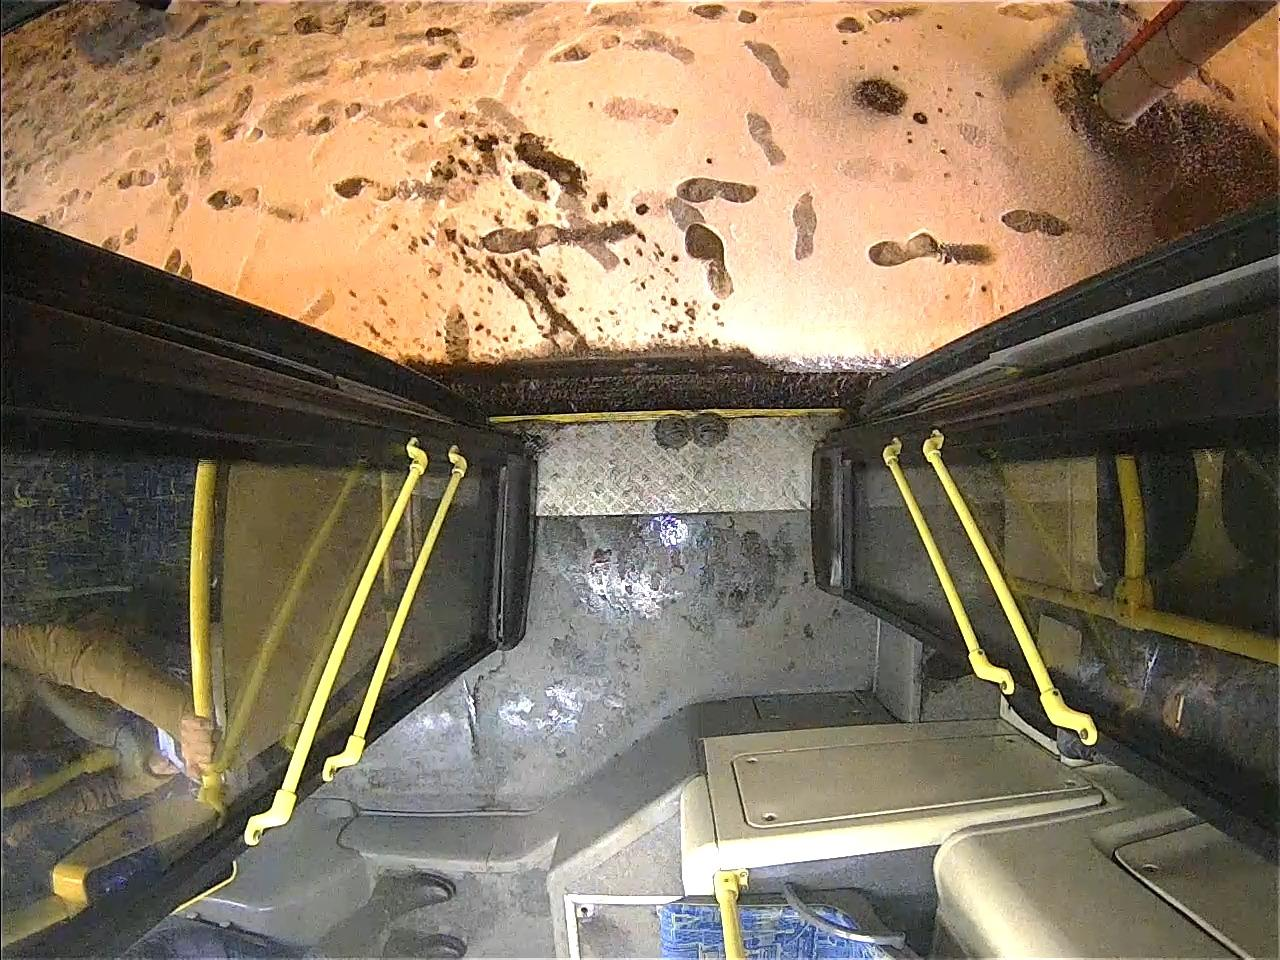open: (0, 0, 1280, 437)
